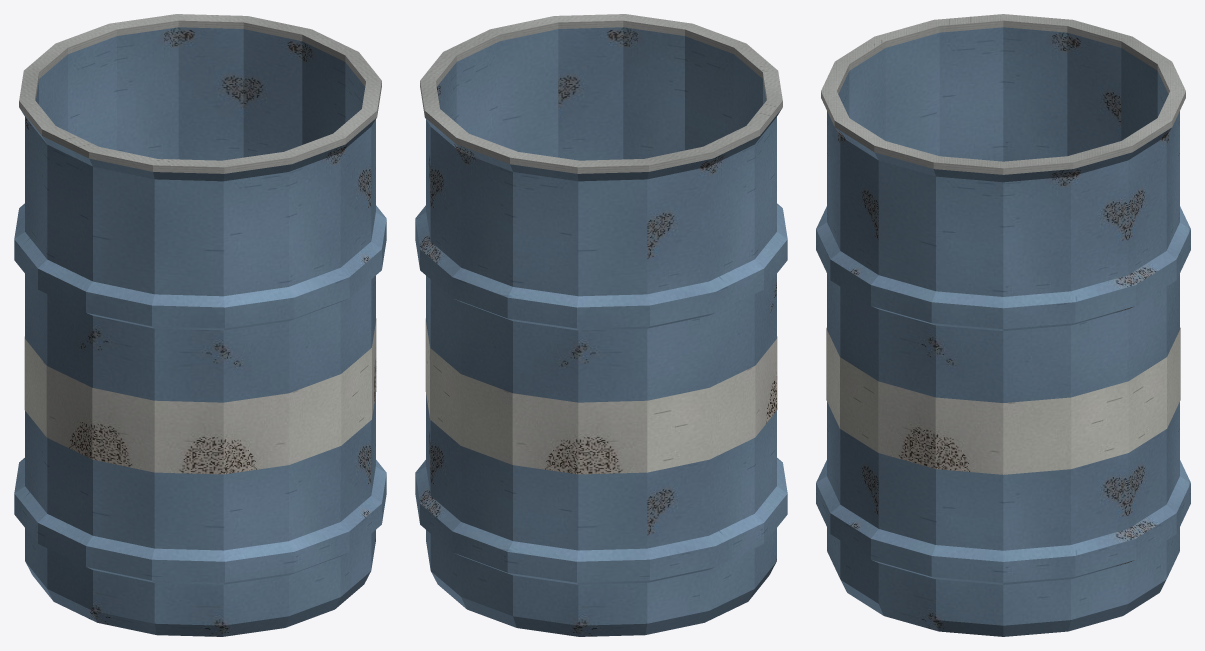
File: barrel3.glb
3 views of the same model, side by side, from view 1: azimuth 30°, elevation 25°; view 2: azimuth 150°, elevation 25°; view 3: azimuth 270°, elevation 25° (orthographic).
Visible parts, largest first — view 1: NC_barrel3; view 2: NC_barrel3; view 3: NC_barrel3.
Part boxes in pixels (x1,y1,x2,y2): NC_barrel3: [14, 14, 386, 636]; NC_barrel3: [415, 14, 787, 636]; NC_barrel3: [816, 14, 1190, 636].
Bounding box in the file's own units: 0.616 × 0.86 × 0.616.
Materials: 4 (4 with a texture image).
